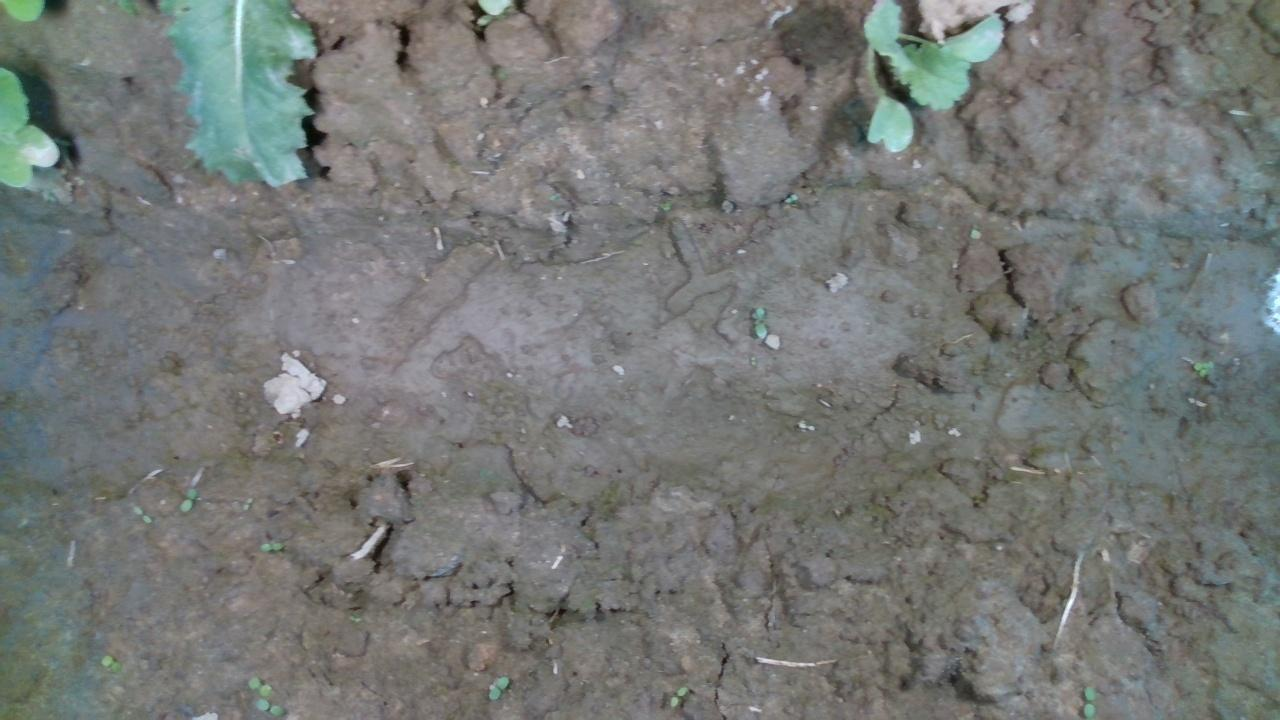weed: (664, 681, 694, 714), (746, 303, 770, 339), (487, 673, 513, 703), (1192, 356, 1226, 377), (177, 485, 194, 514), (128, 504, 152, 524), (258, 533, 284, 549), (782, 187, 802, 201)
